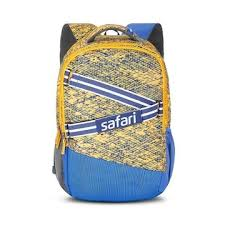backpack: (51, 21, 175, 202)
